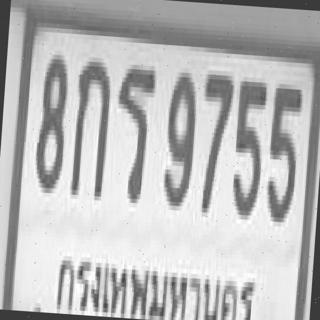A01: (68, 56, 110, 196)
A35: (110, 59, 156, 199)
N05: (264, 79, 301, 218), (230, 76, 266, 216)
N07: (195, 70, 233, 209)
N08: (32, 50, 68, 188)
N09: (161, 67, 197, 206)
P04: (50, 240, 262, 320)
